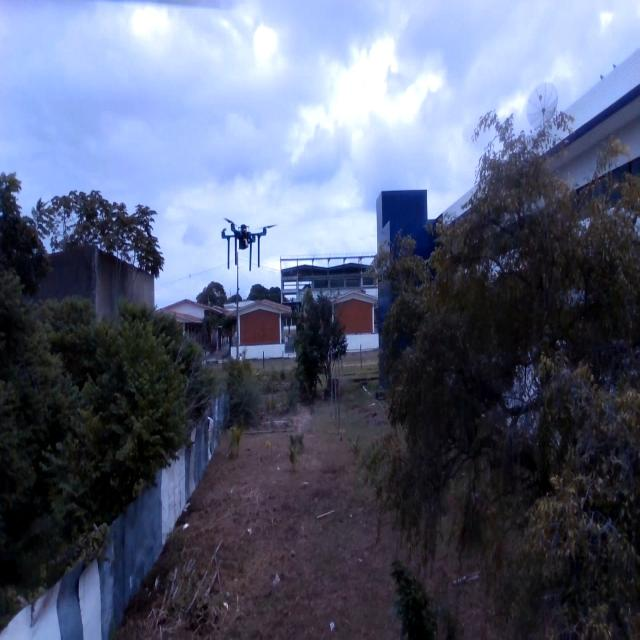-uav-: (212, 196, 280, 283)
